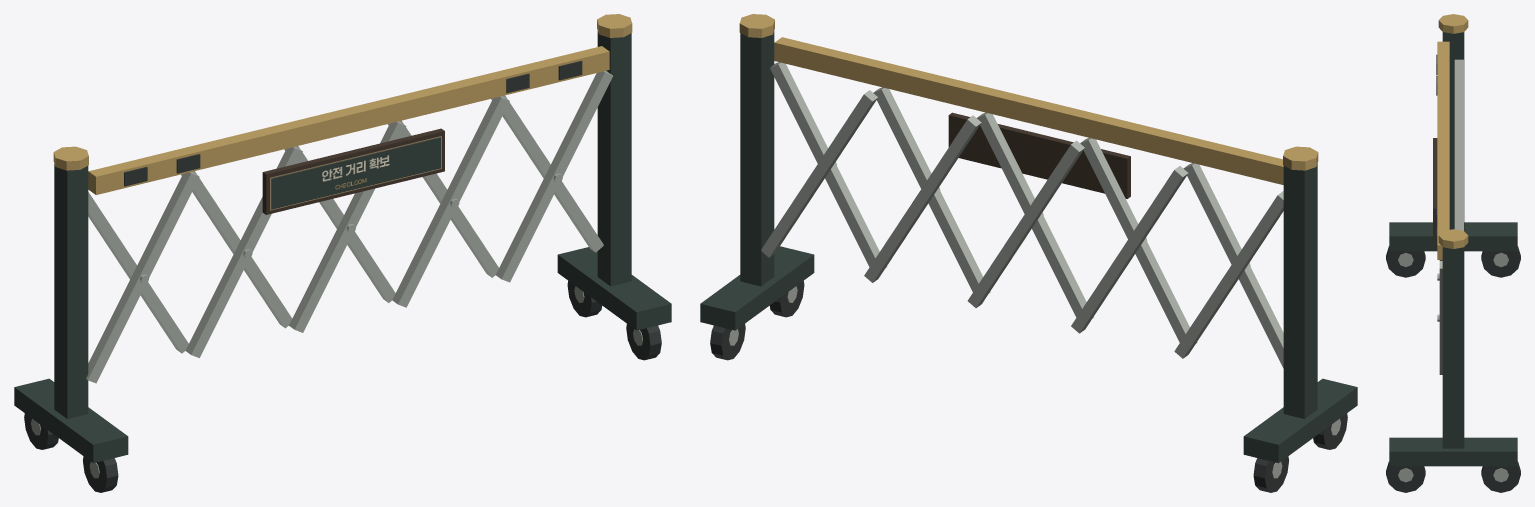
The model's file is 05_Mobile_Safety_Barrier.fbx.
3 renders of one model, left to right at view 1: azimuth 30°, elevation 25°; view 2: azimuth 150°, elevation 25°; view 3: azimuth 270°, elevation 25°, orthographic. The views are drawn at different scales.
Parts seen in each view (by area): view 1: Structure.004; view 2: Structure.004; view 3: Structure.004.
Part boxes in pixels (x1,y1,x2,y2): Structure.004: [14, 14, 671, 492]; Structure.004: [700, 14, 1357, 492]; Structure.004: [1386, 14, 1520, 492].
Size of the model in its own units: 330 by 172 by 82.
2 materials, 2 textured.
